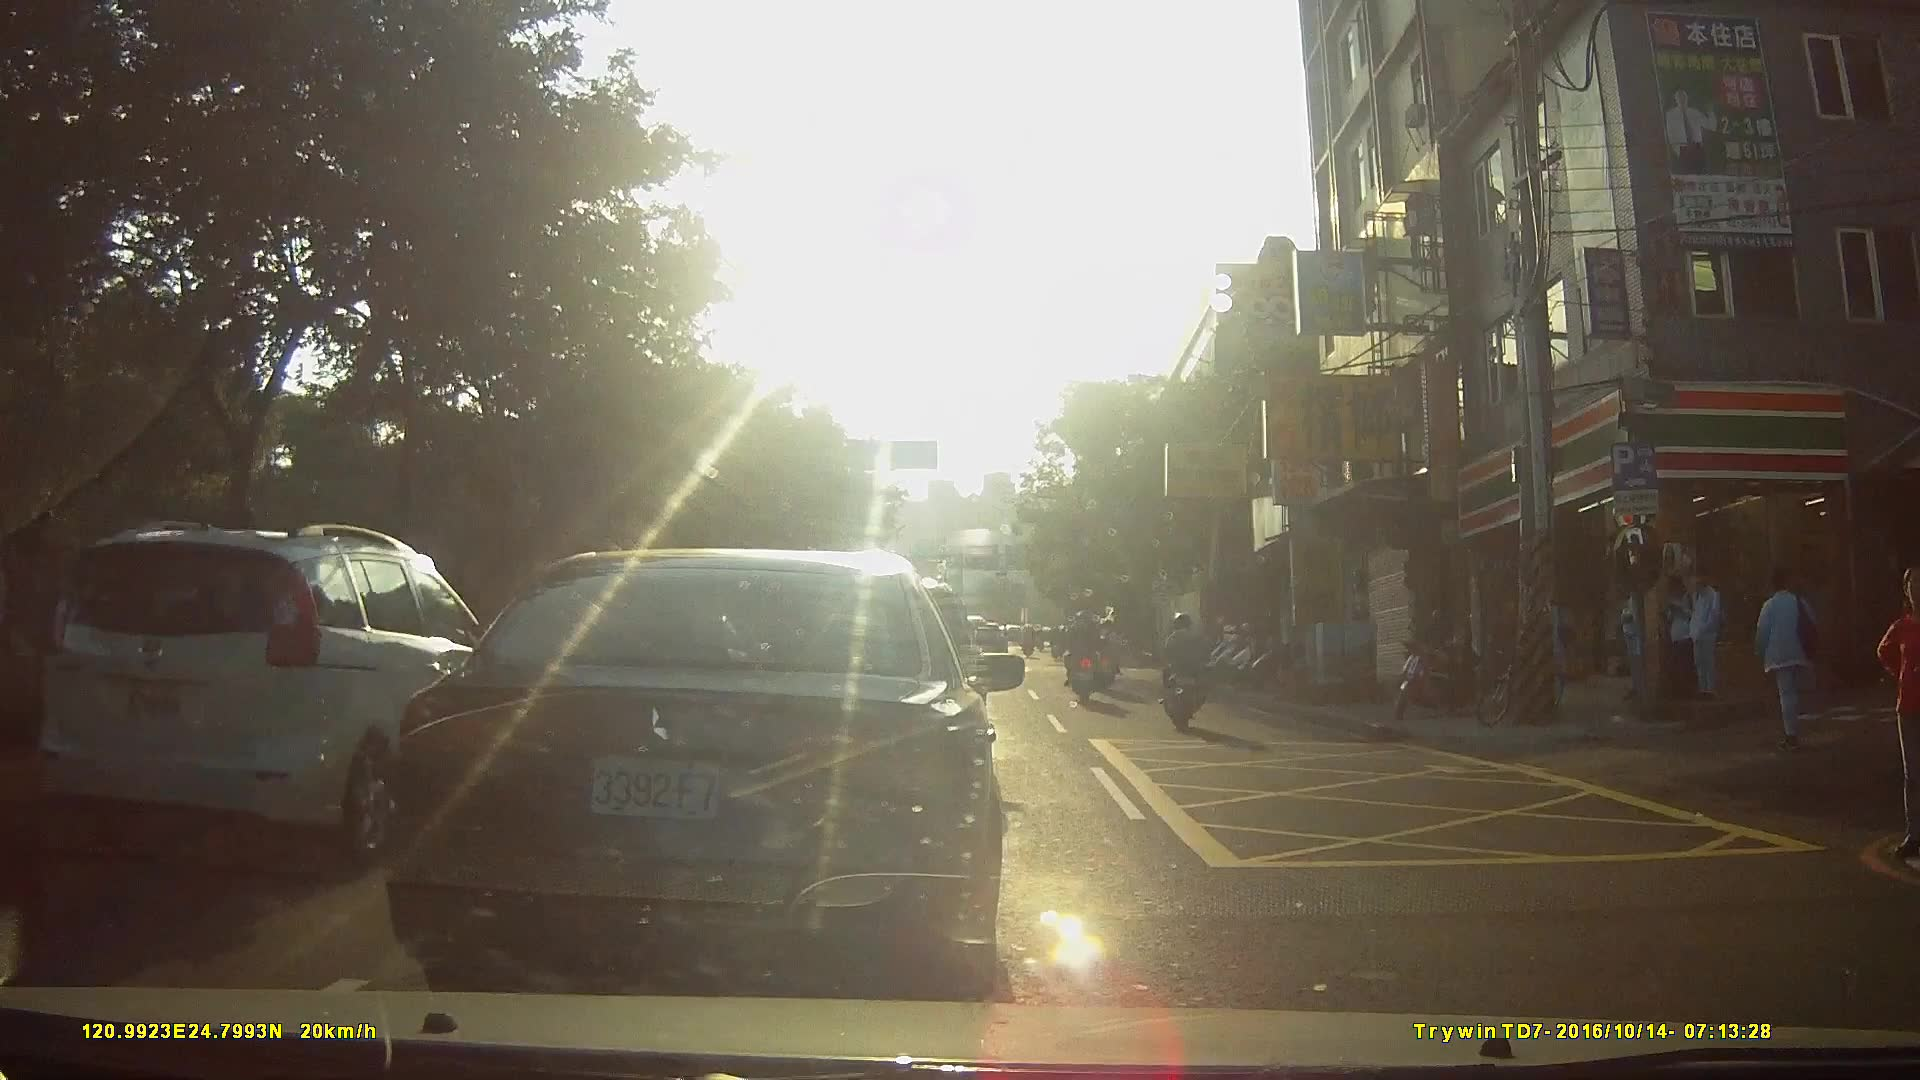pedestrian: (1759, 570, 1826, 757), (1876, 567, 1920, 854), (1680, 569, 1723, 702), (1614, 573, 1655, 708), (1661, 567, 1699, 711)
rider: (1158, 613, 1215, 733), (1062, 611, 1110, 707), (1020, 626, 1040, 660)
vehicle: (377, 546, 1034, 983), (46, 501, 498, 888)
